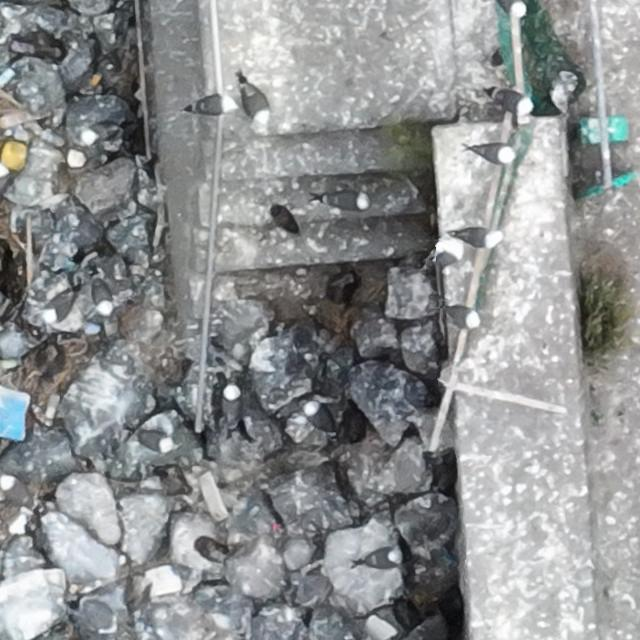umineko: (80, 119, 122, 150), (2, 475, 34, 510), (69, 148, 117, 170), (321, 190, 372, 210), (242, 85, 269, 120), (184, 95, 232, 114), (489, 89, 531, 108), (304, 404, 334, 430), (45, 296, 73, 323), (454, 228, 495, 246), (361, 550, 399, 568), (471, 145, 511, 162), (222, 385, 240, 422), (137, 431, 172, 450), (446, 306, 479, 325), (93, 280, 110, 314), (494, 0, 522, 11), (83, 322, 103, 334)
